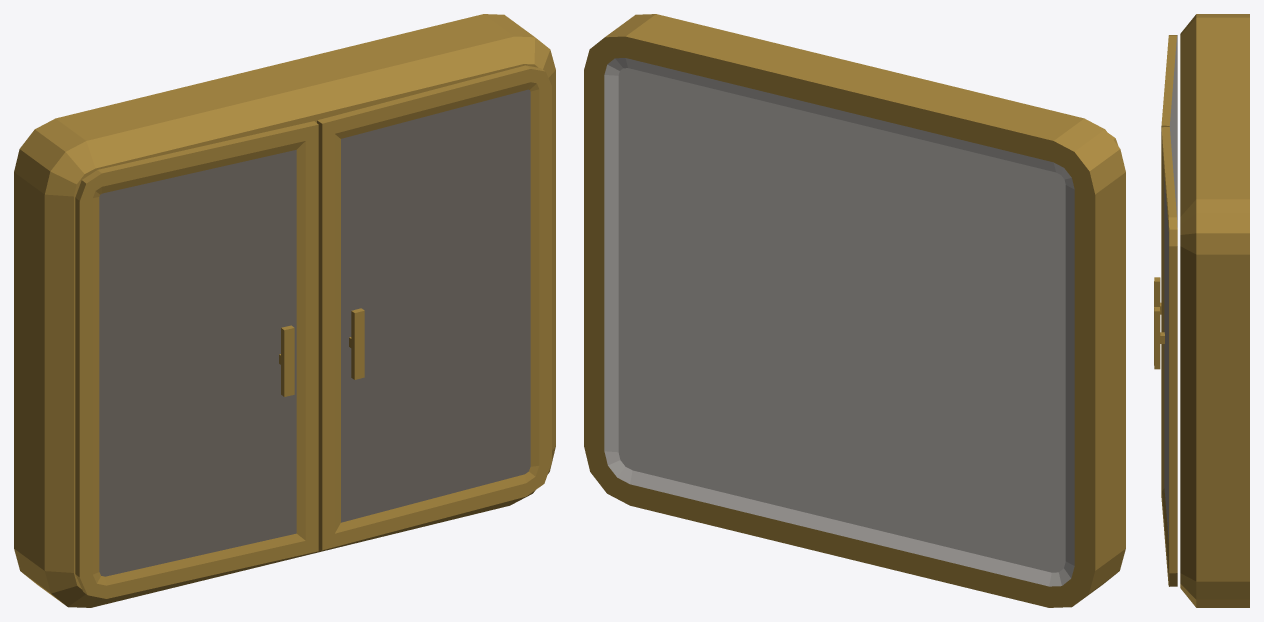
The model's file is mirror-cabinet-3cb9fd.glb.
The picture shows the model from 3 angles, left to right: view 1: azimuth 30°, elevation 25°; view 2: azimuth 150°, elevation 25°; view 3: azimuth 270°, elevation 25°; orthographic projection. The views are drawn at different scales.
Parts seen in each view (by area): view 1: door-l, door-r, mirror-cabinet; view 2: mirror-cabinet; view 3: mirror-cabinet, door-r, door-l.
Part boxes in pixels (x1,y1,x2,y2): door-l: (75, 121, 318, 598); door-r: (317, 65, 551, 550); mirror-cabinet: (14, 14, 555, 607); mirror-cabinet: (584, 14, 1125, 607); mirror-cabinet: (1180, 14, 1249, 607); door-r: (1154, 127, 1177, 586); door-l: (1154, 35, 1177, 314).
Bounding box in the file's own units: 0.8 × 0.7 × 0.1494.
